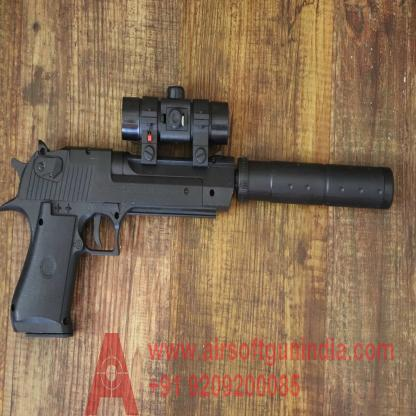handgun: (7, 85, 400, 341)
